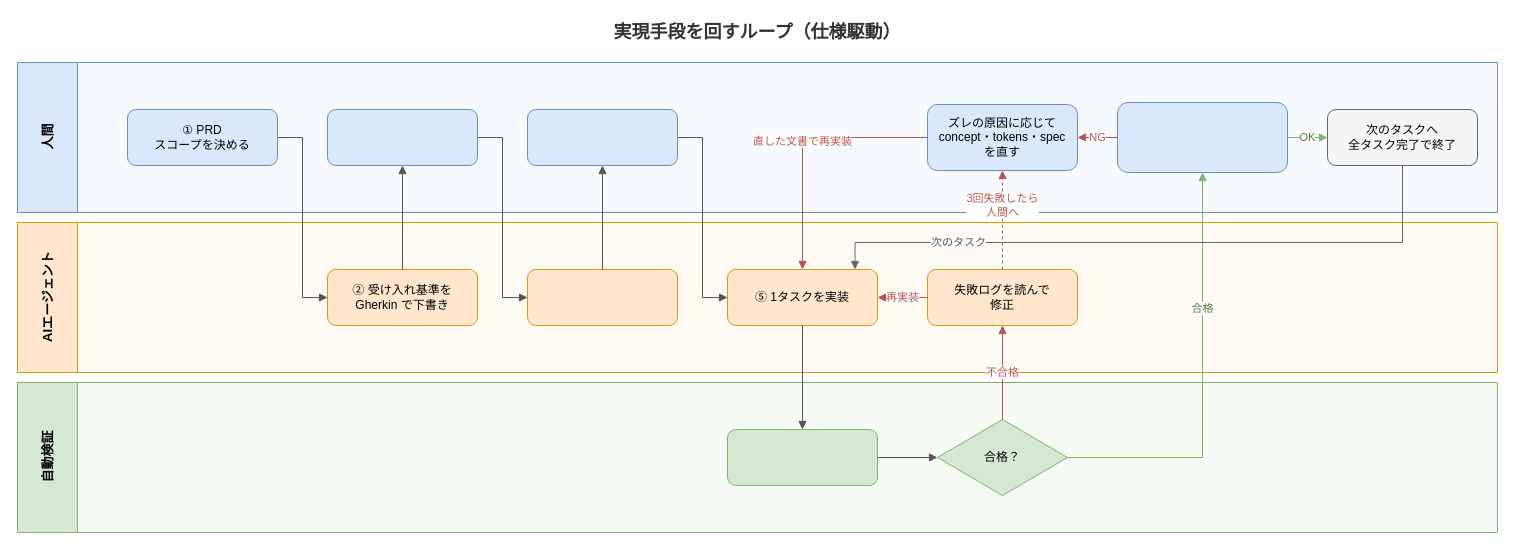
This 1515x550 diagram has some shape labels left out. The shapes that lost their labels are listed below. From the top down, each one's centre as x and y in pixels, then its label:
At point (402, 137): "② spec.md を確定 検証方法も決める".
At point (602, 137): "④ 計画をレビュー".
At point (1202, 137): "⑦ 意匠面のレビュー concept.md と照合 （人間が見る AC のあるタスク）".
At point (602, 297): "③ plan.md タスクに分解".
At point (802, 457): "⑥ 自動検証 lint・E2E・a11y".
